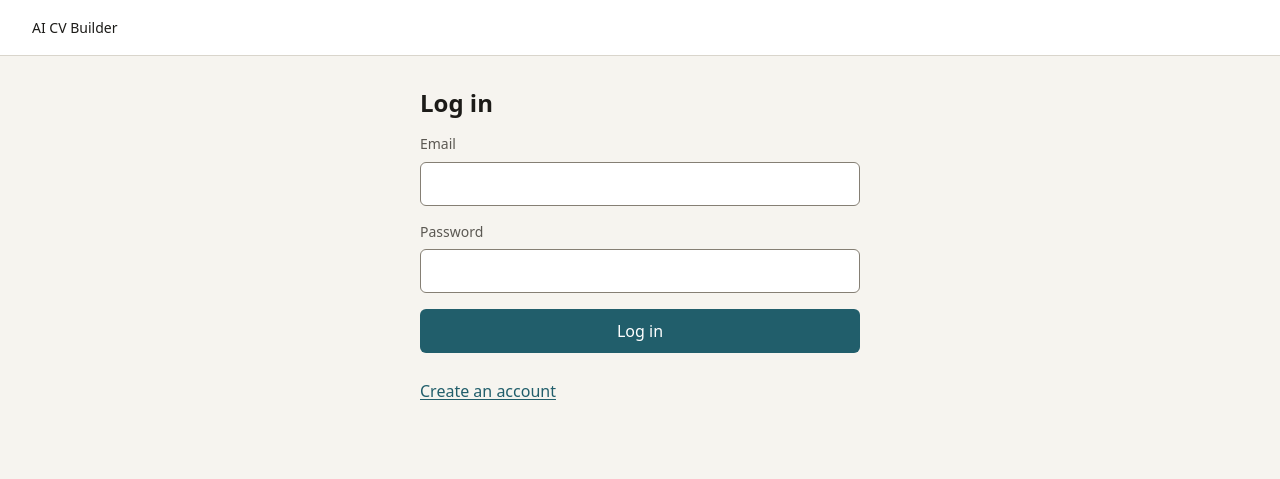
Scenario: log-in form (C-002, CVB-6) › shows the generic 401 message in an alert and stays on the login screen
Type "ana@example.com" into the field labelled "Email".
click(640, 184); type("ana@example.com")  # box top-left (420, 162), bottom-right (860, 206)
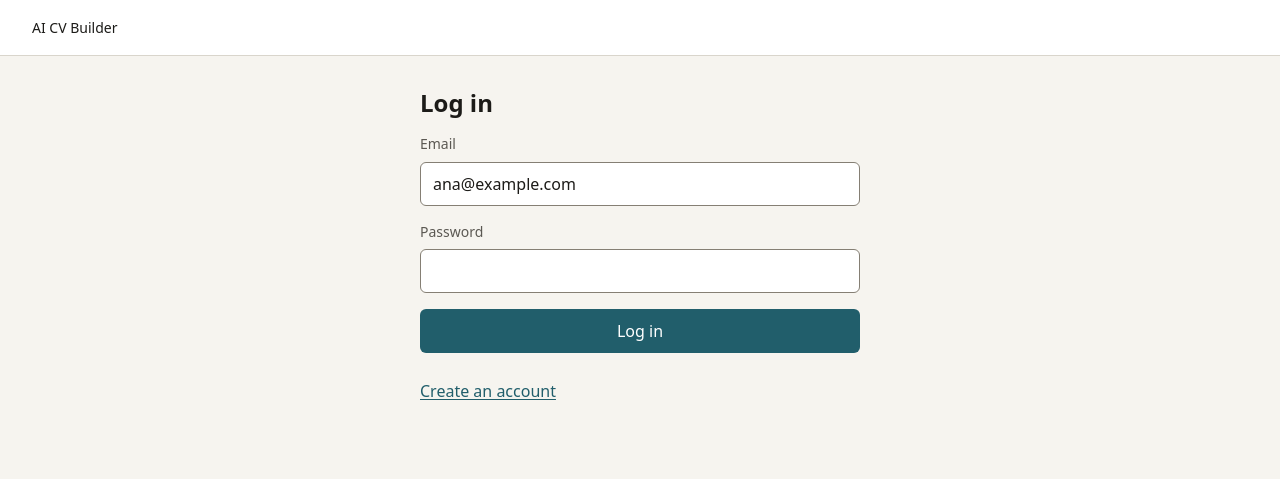
Type "wrong-password-here" into the password field labelled "Password".
click(640, 271); type("wrong-password-here")  # box top-left (420, 249), bottom-right (860, 293)
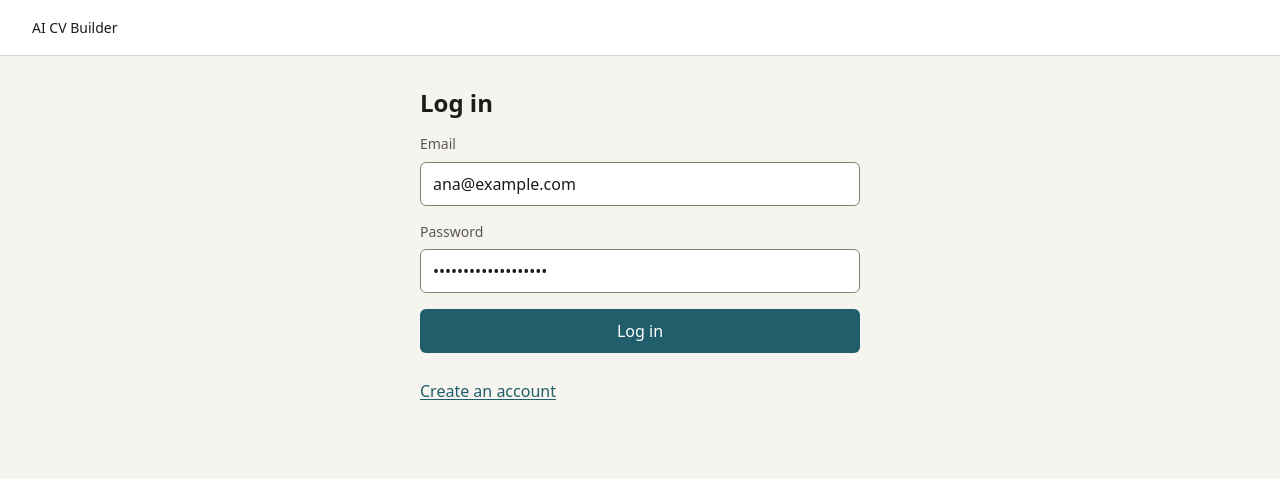
Submit the form labelled "Email Password Log in", box top-left (420, 134), bottom-right (860, 353)
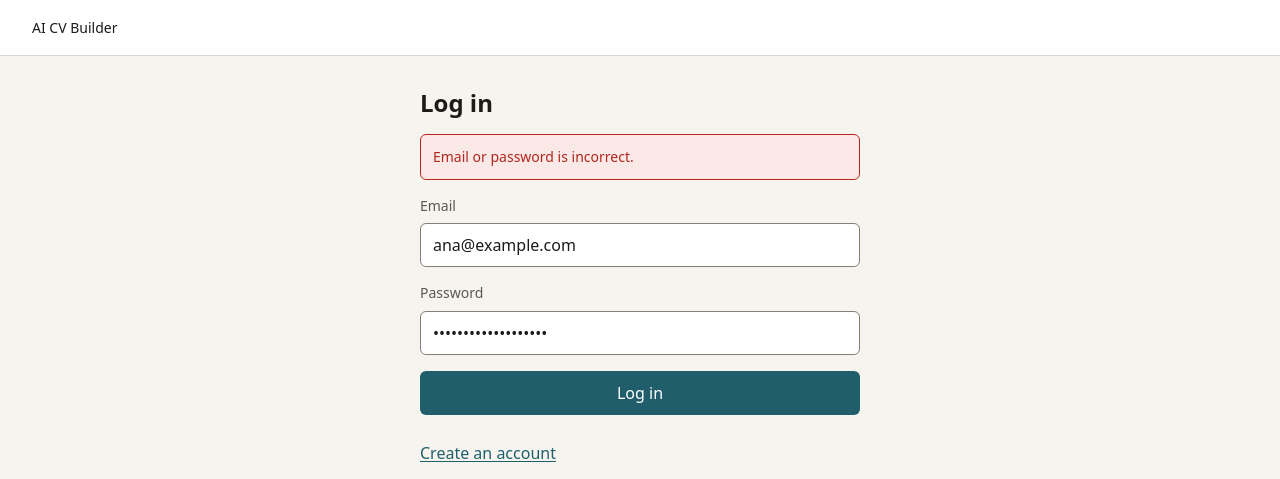
Expected: the message reads "Email or password is incorrect.", top-left (433, 147), bottom-right (634, 166)
